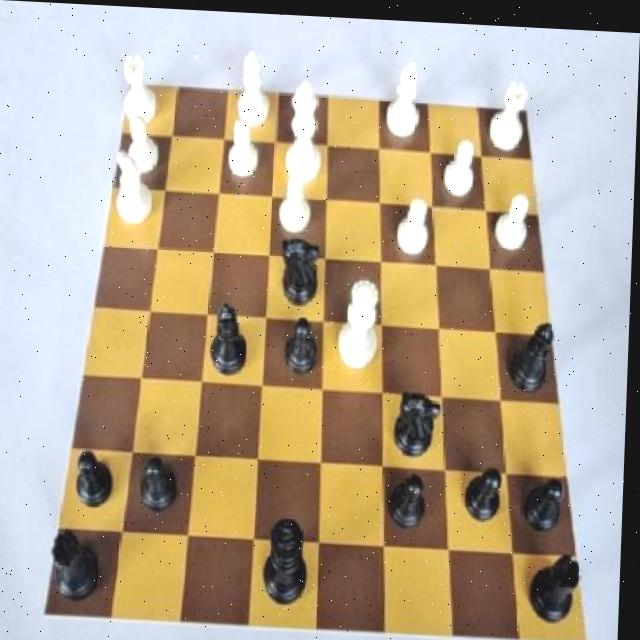bishop: (506, 309, 558, 395), (211, 294, 255, 380)
black-bishop: (261, 511, 316, 609)
black-king: (273, 224, 328, 313), (388, 384, 443, 462)
black-knight: (519, 462, 570, 542), (73, 442, 122, 519), (463, 455, 512, 528), (138, 448, 189, 518), (278, 310, 330, 376), (389, 467, 433, 534)
black-queen: (46, 527, 114, 608), (526, 547, 589, 630)
black-rook: (379, 51, 425, 144), (227, 43, 274, 129)
white-bishop: (281, 70, 328, 194)
white-king: (108, 141, 156, 229)
white-knight: (392, 184, 438, 258), (122, 104, 166, 176), (493, 182, 534, 254), (440, 126, 478, 203), (276, 170, 317, 241), (225, 117, 263, 186)
white-pawn: (339, 273, 385, 377)
white-queen: (484, 71, 537, 151), (116, 45, 164, 123)
